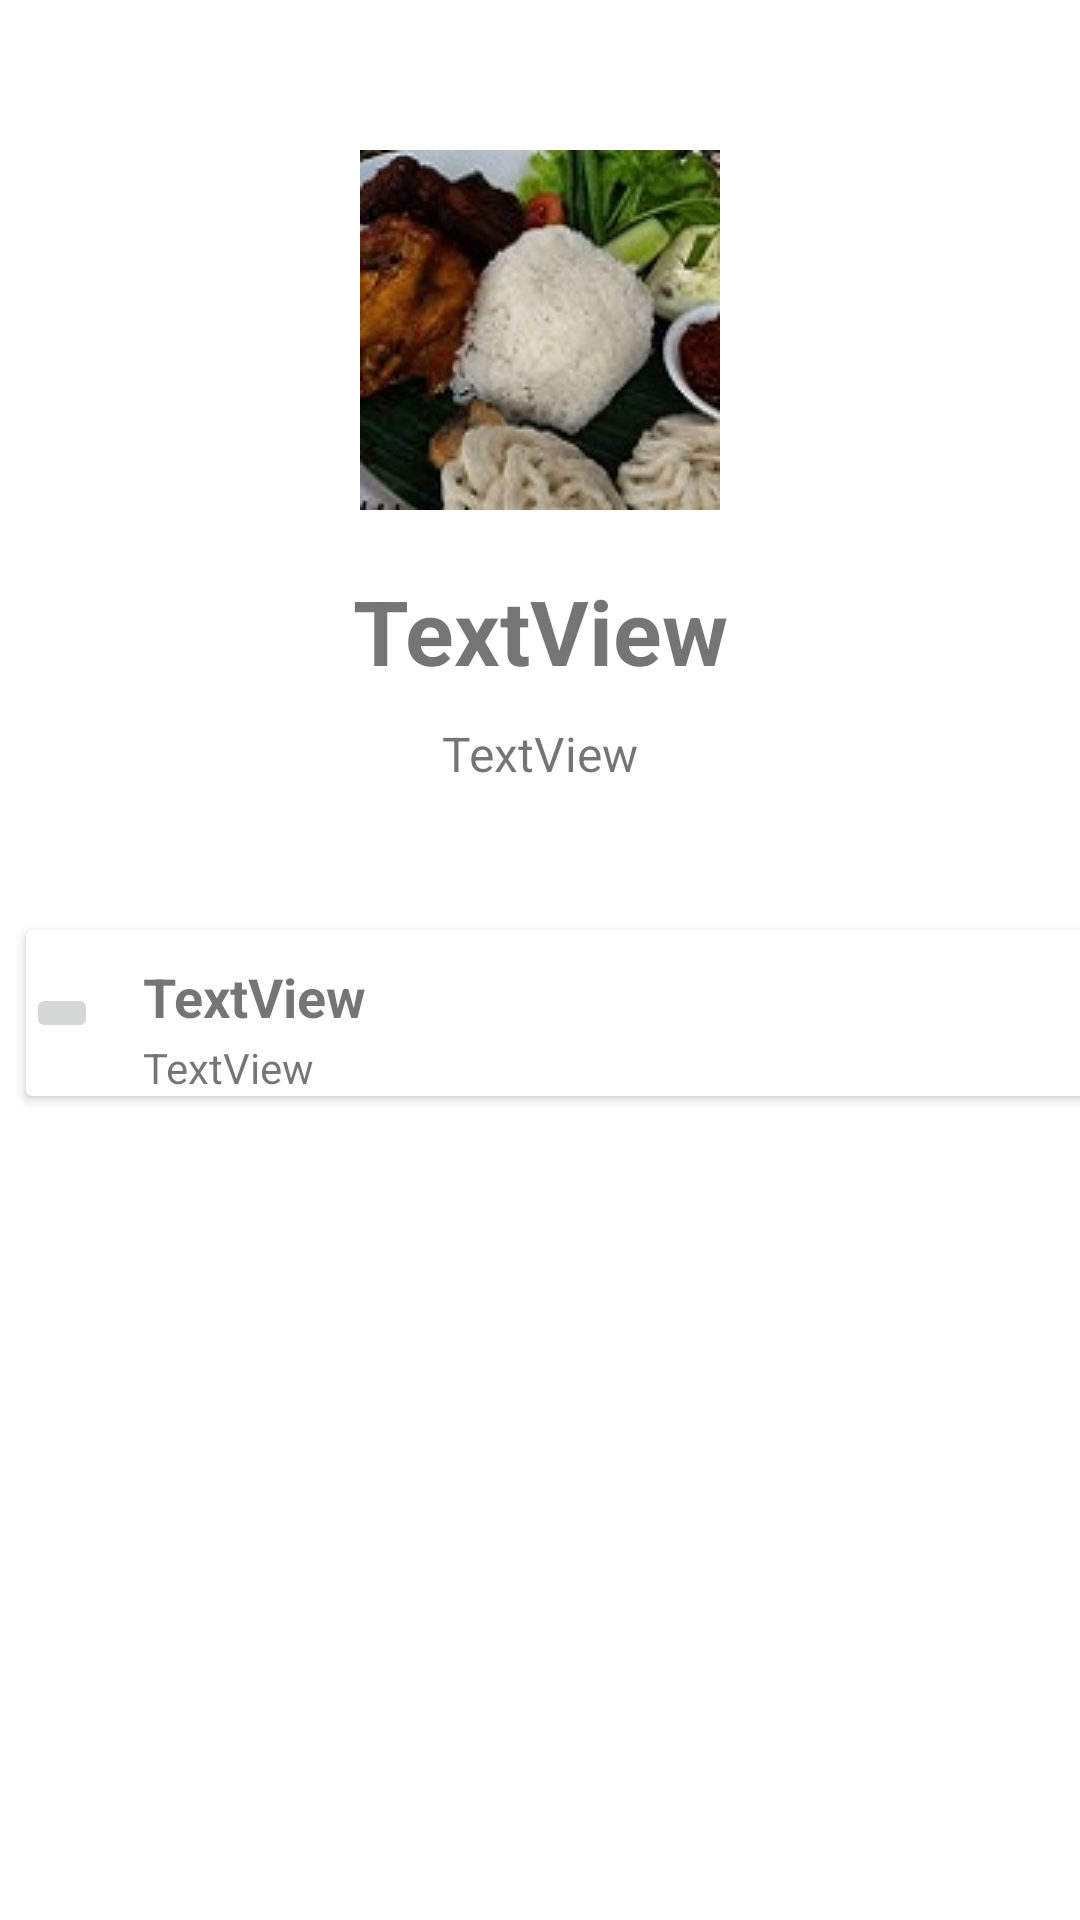

Locate icon controls on the screen. Image size 1080 × 1920, boxes as (x1, y1, x2, y2).
jabartimbel: (360, 150, 720, 510)
